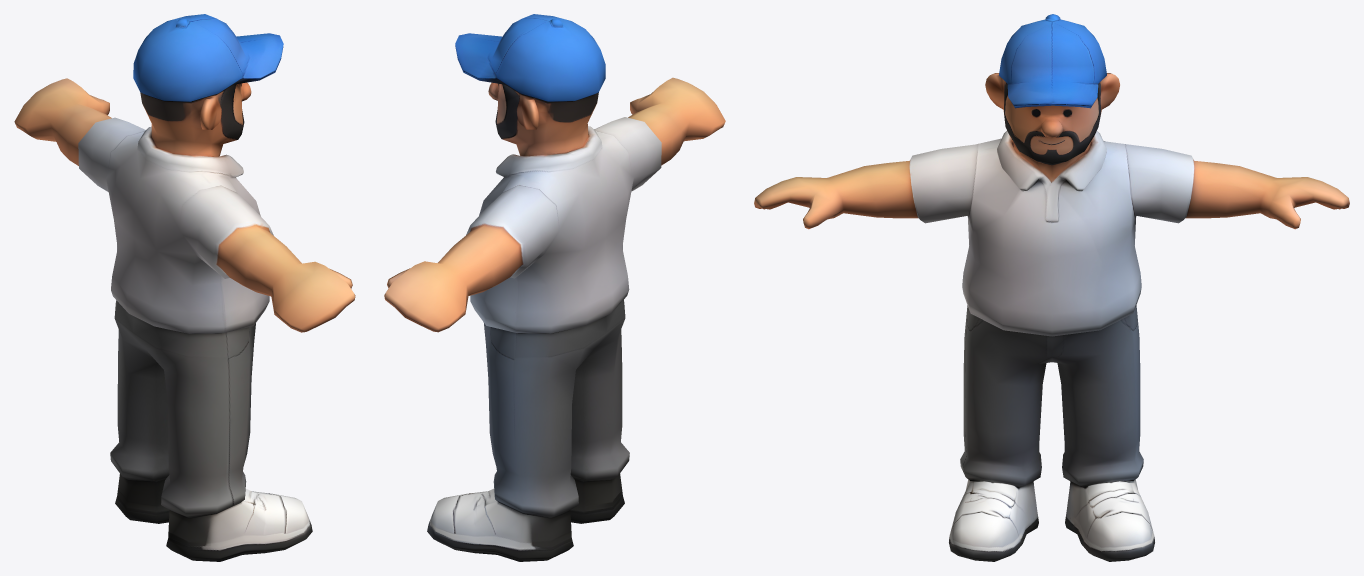
3 renders of one model, left to right at view 1: azimuth 30°, elevation 25°; view 2: azimuth 150°, elevation 25°; view 3: azimuth 270°, elevation 25°, orthographic.
Visible parts, largest first — view 1: tripo_node_a5293f54-d9e7-4616-95bb-a6f3a6917f75; view 2: tripo_node_a5293f54-d9e7-4616-95bb-a6f3a6917f75; view 3: tripo_node_a5293f54-d9e7-4616-95bb-a6f3a6917f75.
Part boxes in pixels (bbox=[...]): tripo_node_a5293f54-d9e7-4616-95bb-a6f3a6917f75: bbox=[14, 14, 355, 561]; tripo_node_a5293f54-d9e7-4616-95bb-a6f3a6917f75: bbox=[384, 14, 725, 561]; tripo_node_a5293f54-d9e7-4616-95bb-a6f3a6917f75: bbox=[754, 14, 1349, 561].
Size of the model in its own units: 0.2983 by 0.9438 by 0.9995.
Materials: 1 (1 with a texture image).
